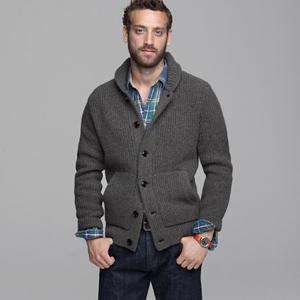S_cardigan sweater: (77, 59, 235, 250)
